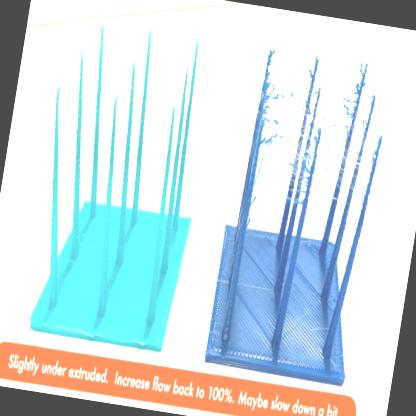fail: (252, 51, 313, 178), (323, 56, 370, 151)
